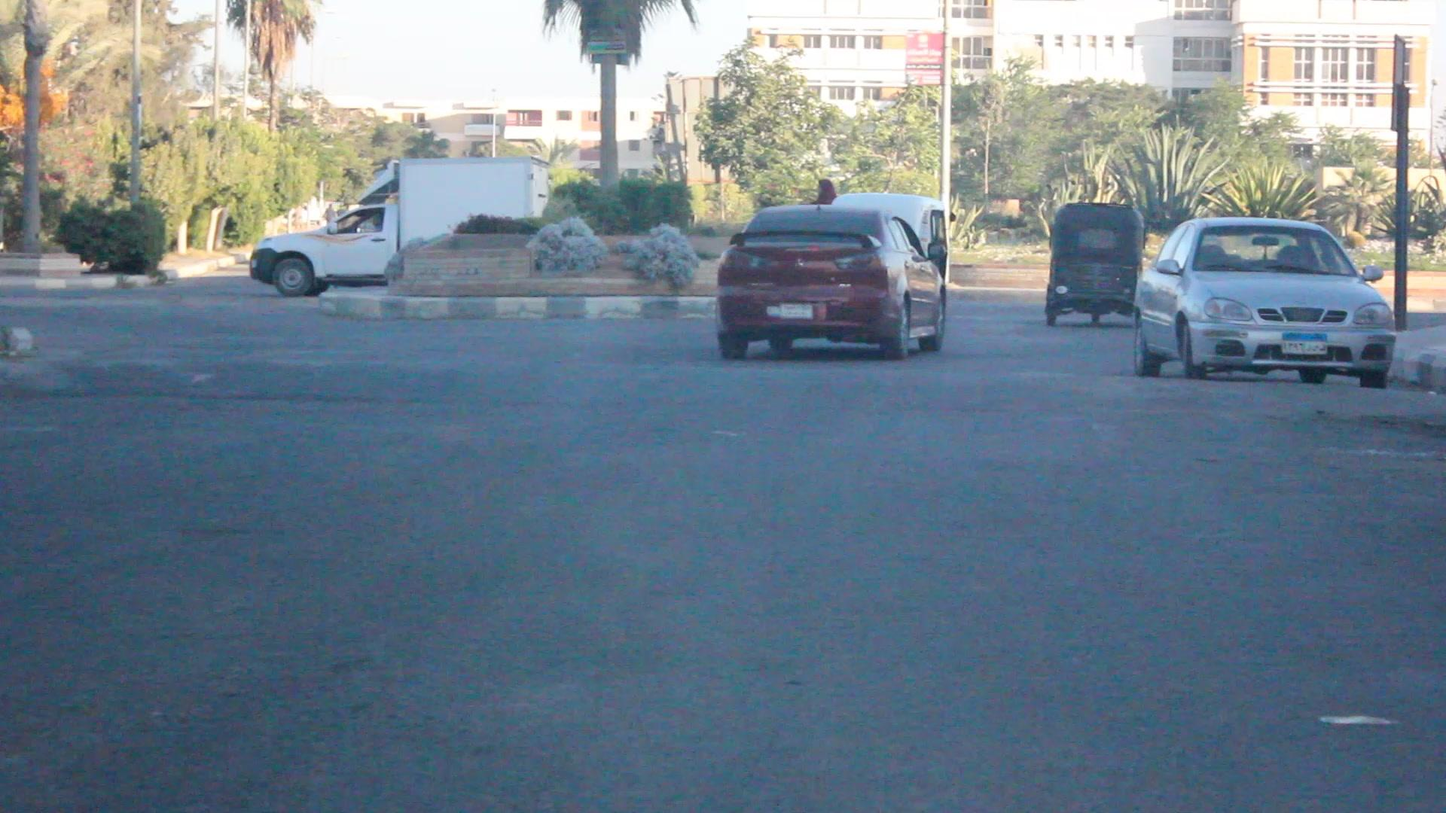Bump: (0, 352, 1440, 433)
